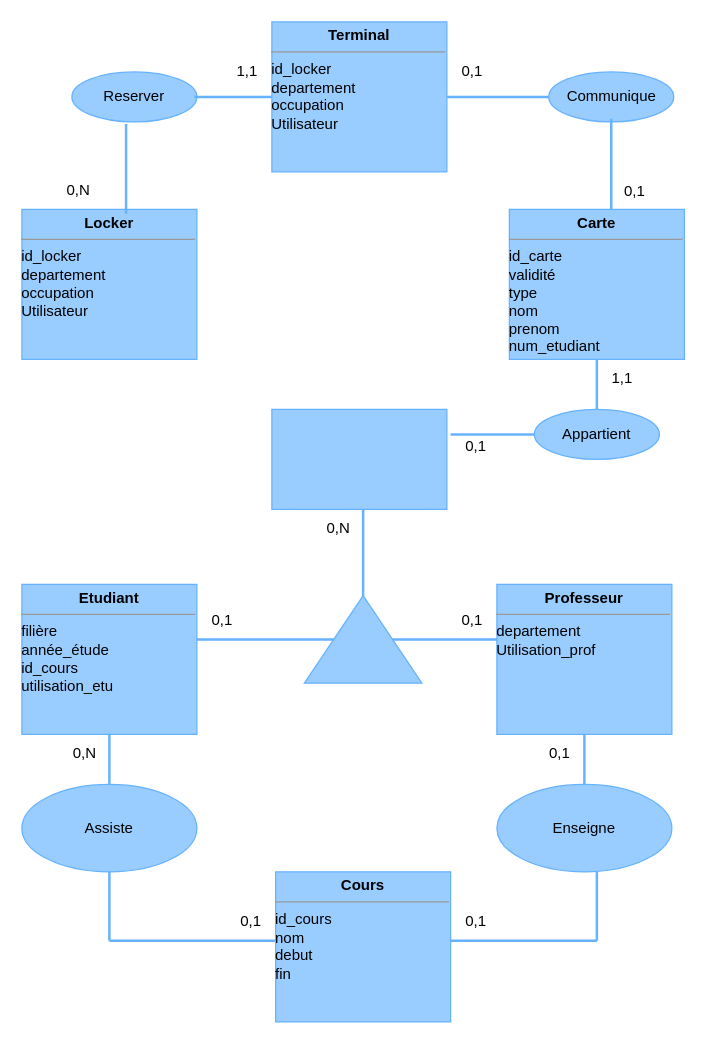
This 706x1044 diagram has some shape labels left out. The box of each missing label's shape, as (x1, y1, x2, y2) in pixels:
Est-un: (303, 594, 422, 683)
Utilisateur id_utilisateur nom prenom: (271, 408, 447, 509)
